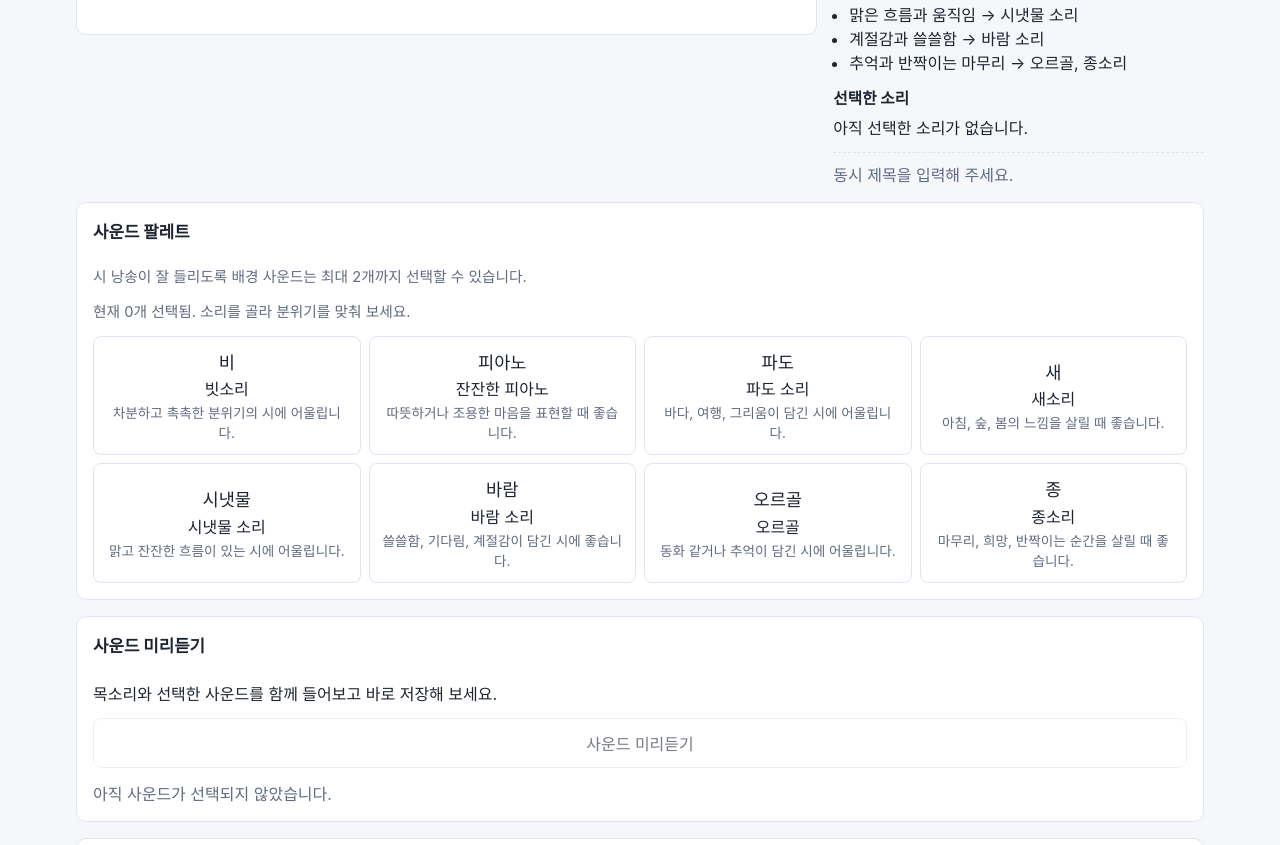
Scenario: Poetry & BGM Studio › limits the sound palette to two selected sounds
(page scrolled)
Step 1. Click the button "비 빗소리 차분하고 촉촉한 분위기의 시에 어울립니다." → (227, 396), box [93,336,360,455]
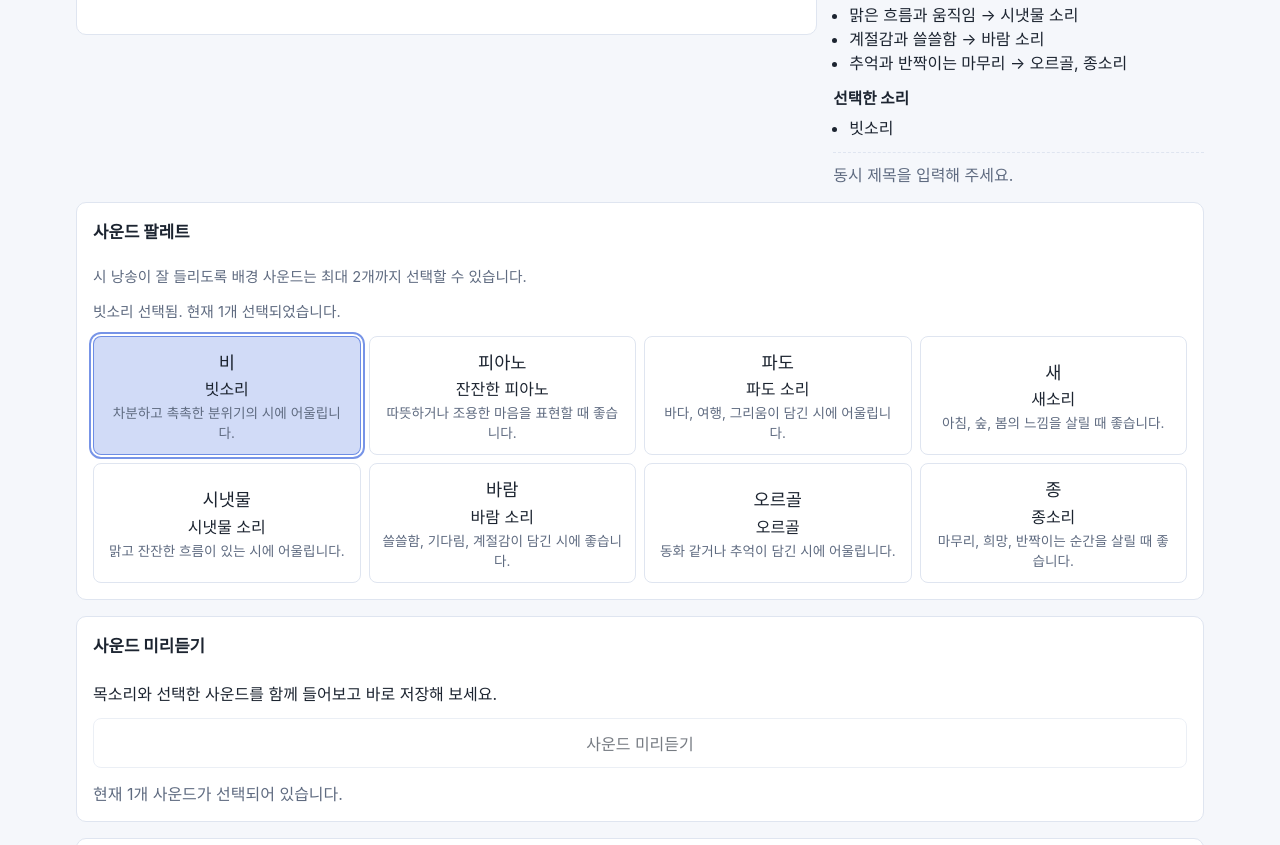
Step 2. Click the button "피아노 잔잔한 피아노 따뜻하거나 조용한 마음을 표현할 때 좋습니다." → (502, 396), box [368,336,636,455]
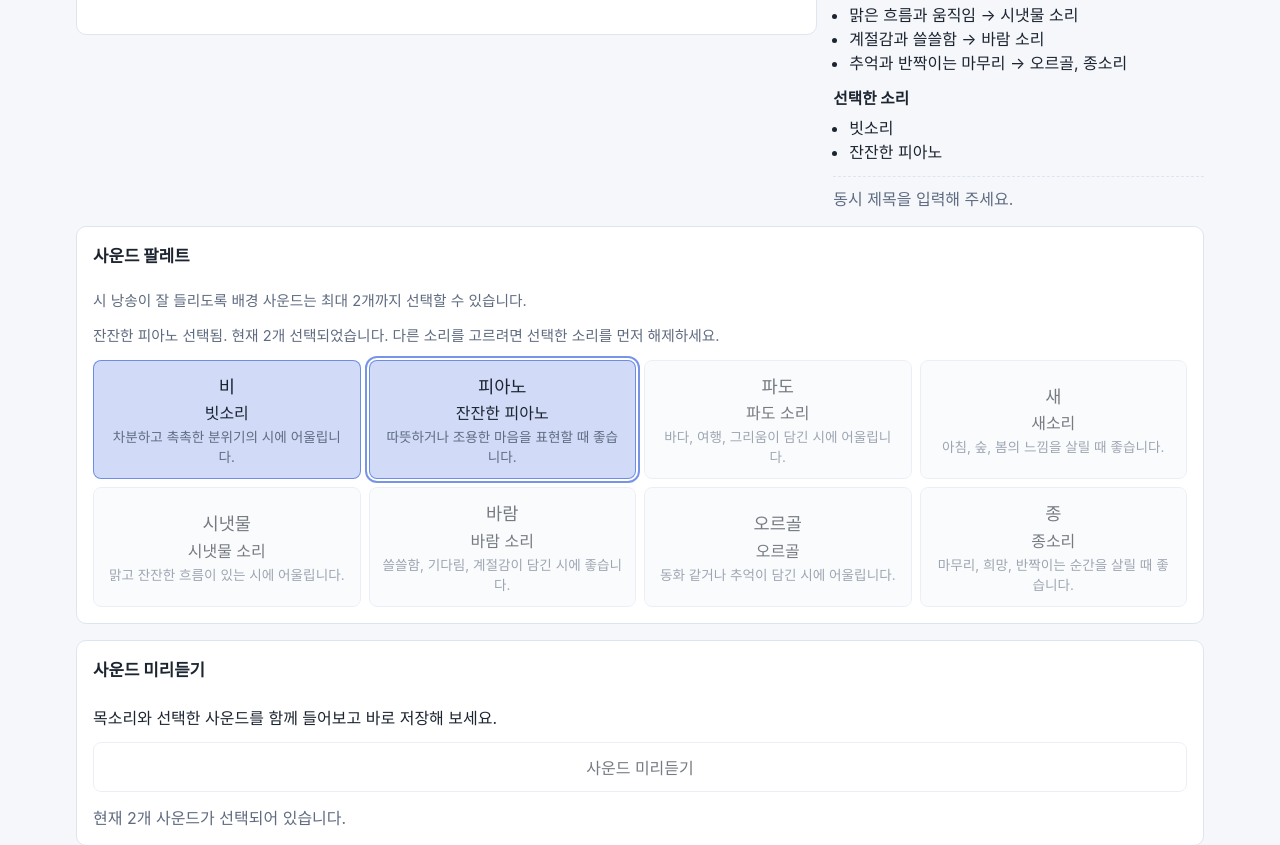
Expected: the button "파도 파도 소리 바다, 여행, 그리움이 담긴 시에 어울립니다." is disabled, [644,360,912,479]
Expected: the text "잔잔한 피아노 선택됨. 현재 2개 선택되었습니다. 다른 소리를 고르려면 선택한 소리를 먼저 해제하세요." is shown, [93,326,720,344]
Step 3. Click the button "비 빗소리 차분하고 촉촉한 분위기의 시에 어울립니다." → (227, 420), box [93,360,360,479]
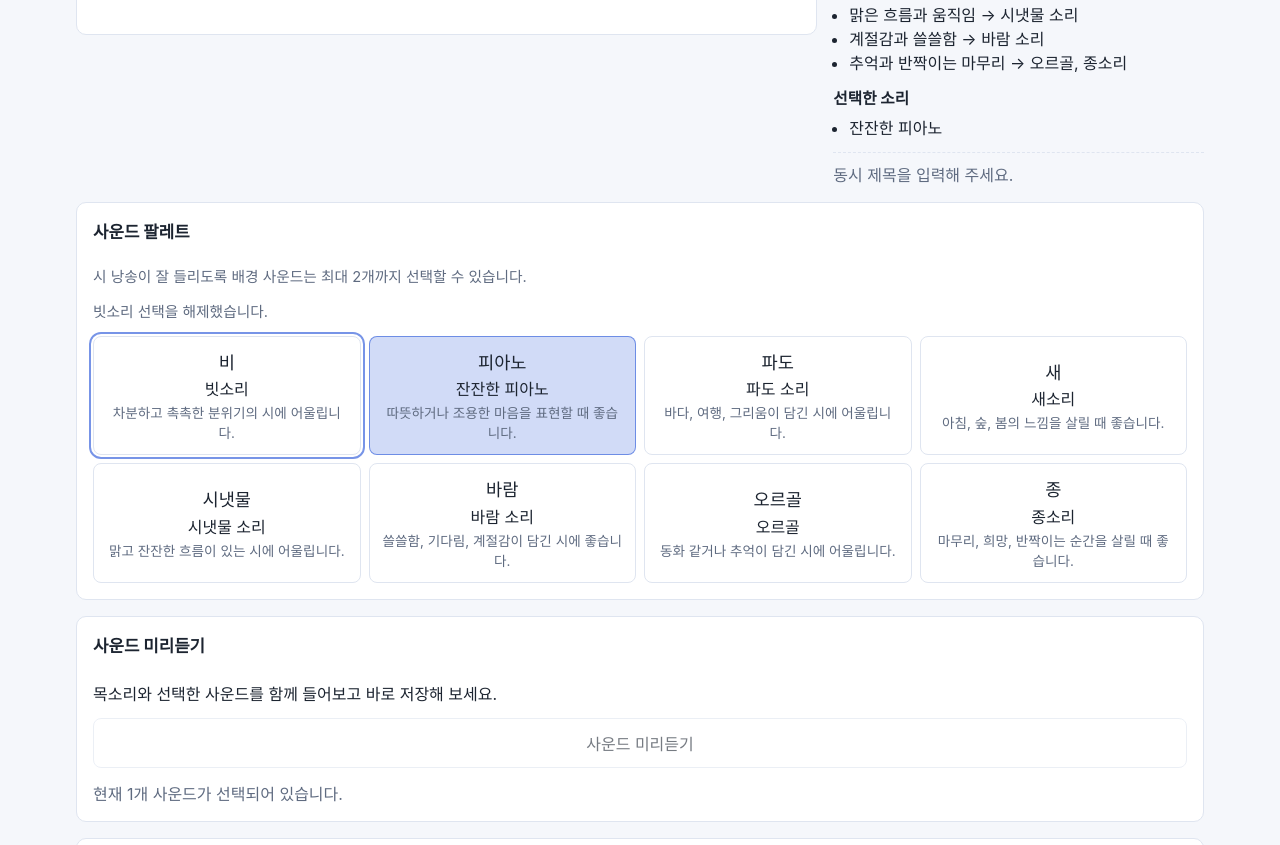
Expected: the button "파도 파도 소리 바다, 여행, 그리움이 담긴 시에 어울립니다." is enabled, [644,336,912,455]
